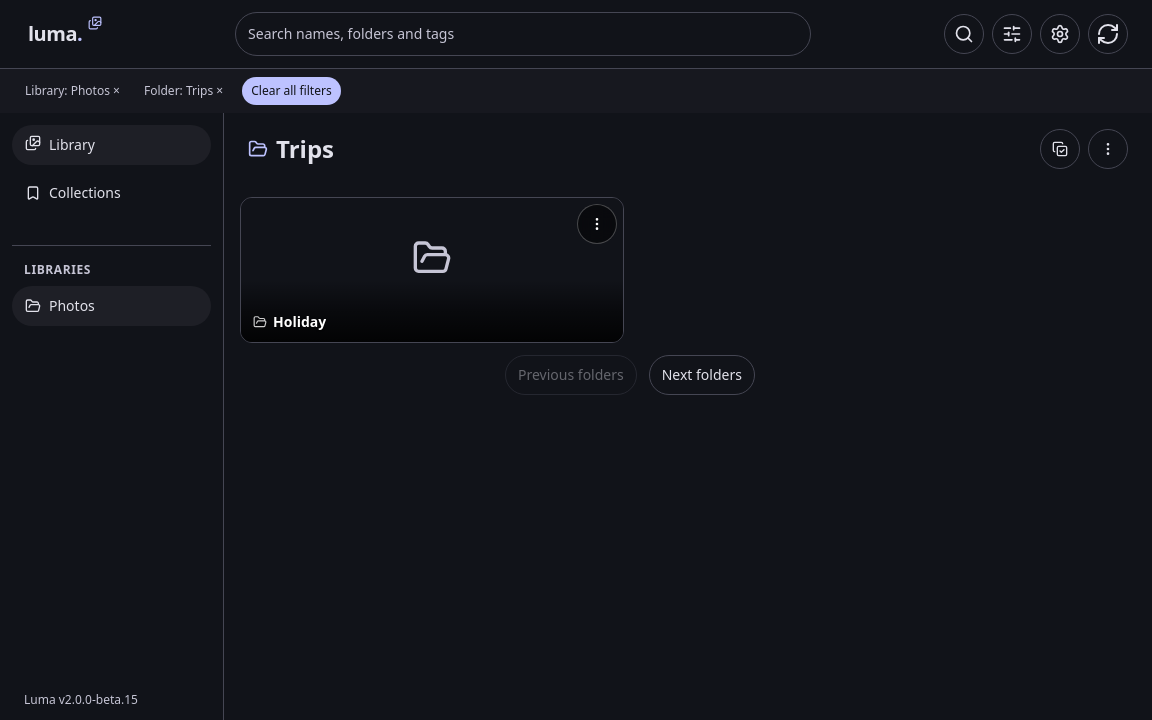
Test: browsing shell › selects folders across pages and uses the entire folder card to toggle without navigating
The image size is (1152, 720).
Expected: the button with aria-label "Open Holiday" is shown, [241, 198, 623, 342]
Click the button named "Select media" at x=1060, y=149, box [1040, 129, 1080, 169]
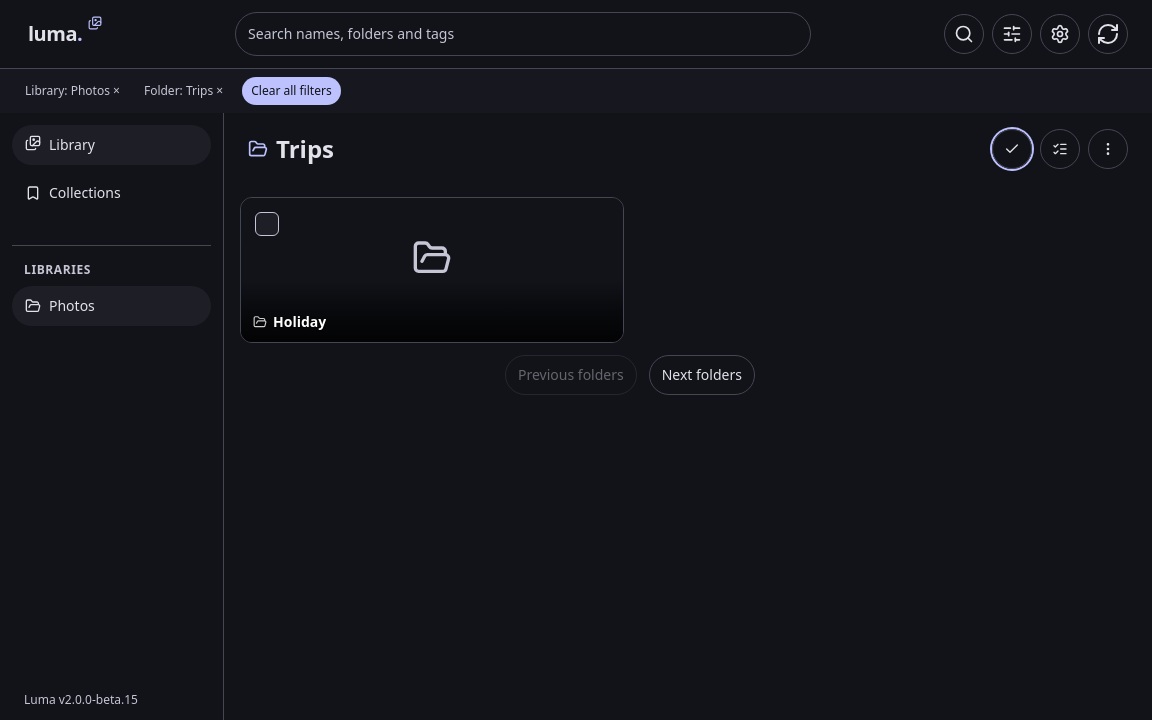
Click the button with aria-label "Select folder Holiday" at x=432, y=270, box [241, 198, 623, 342]
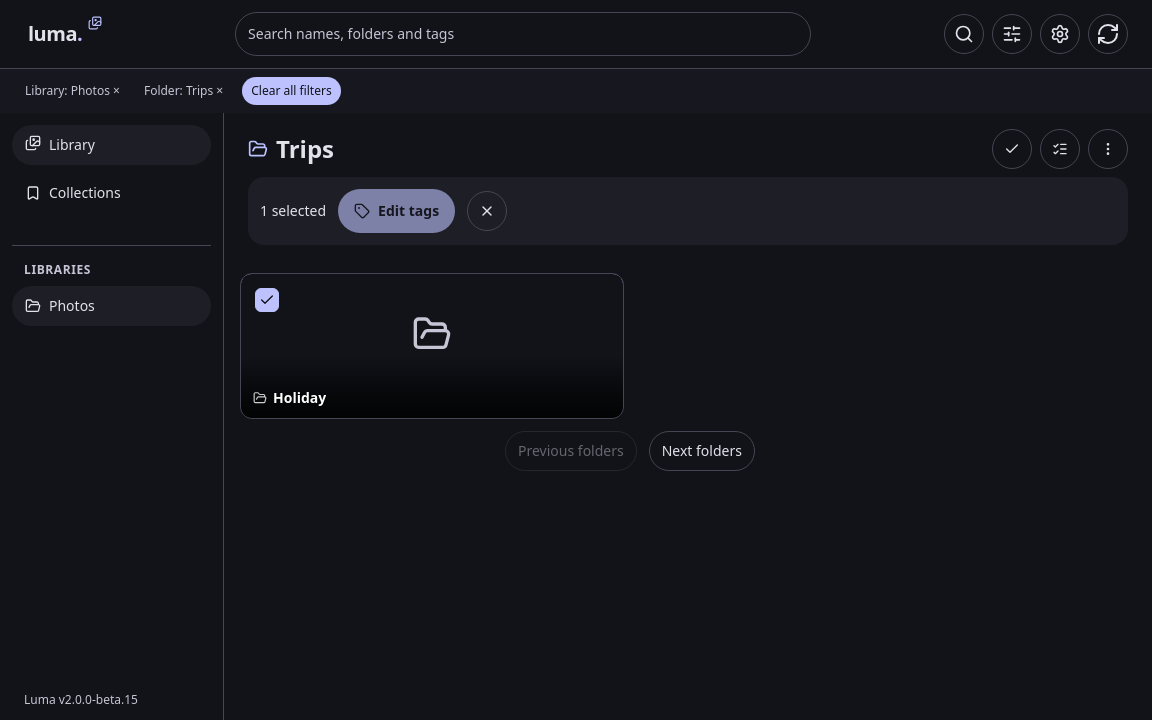
Result: the checkbox named "Select folder Holiday" is checked at [245, 278, 289, 322]
Click the button with aria-label "Select folder Holiday" at x=432, y=346, box [241, 274, 623, 418]
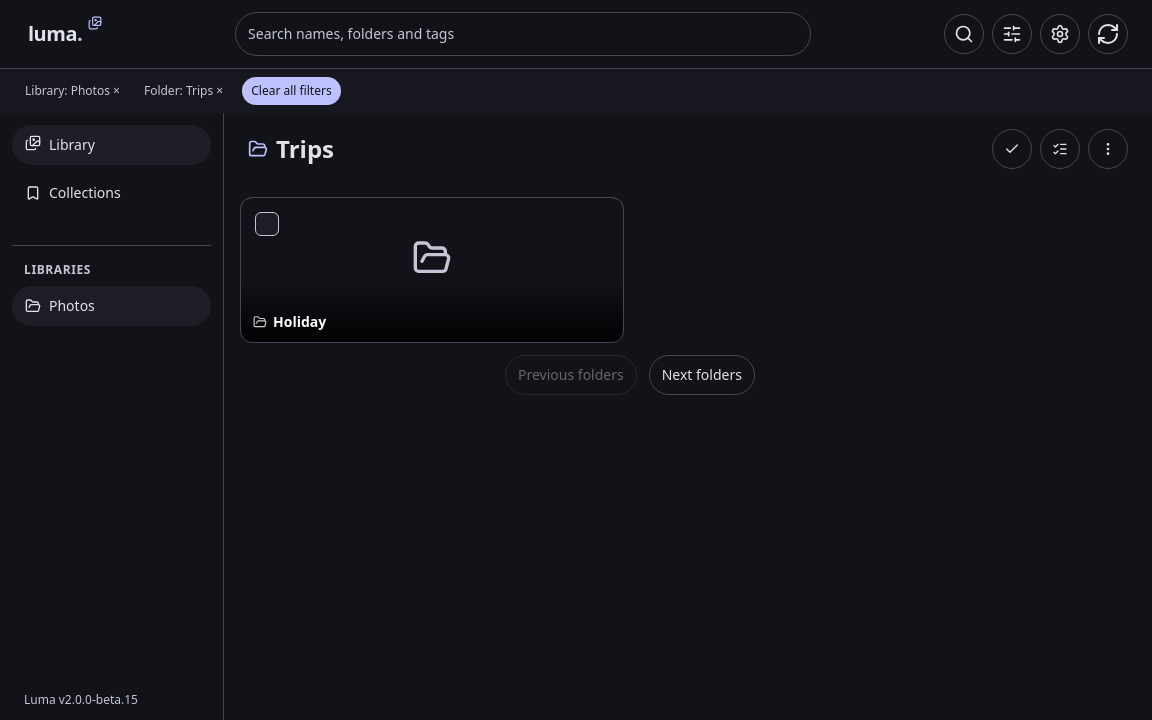
Result: the button with aria-label "Select folder Holiday" is not pressed at [241, 198, 623, 342]
Click the button named "Select all" at x=1060, y=149, box [1040, 129, 1080, 169]
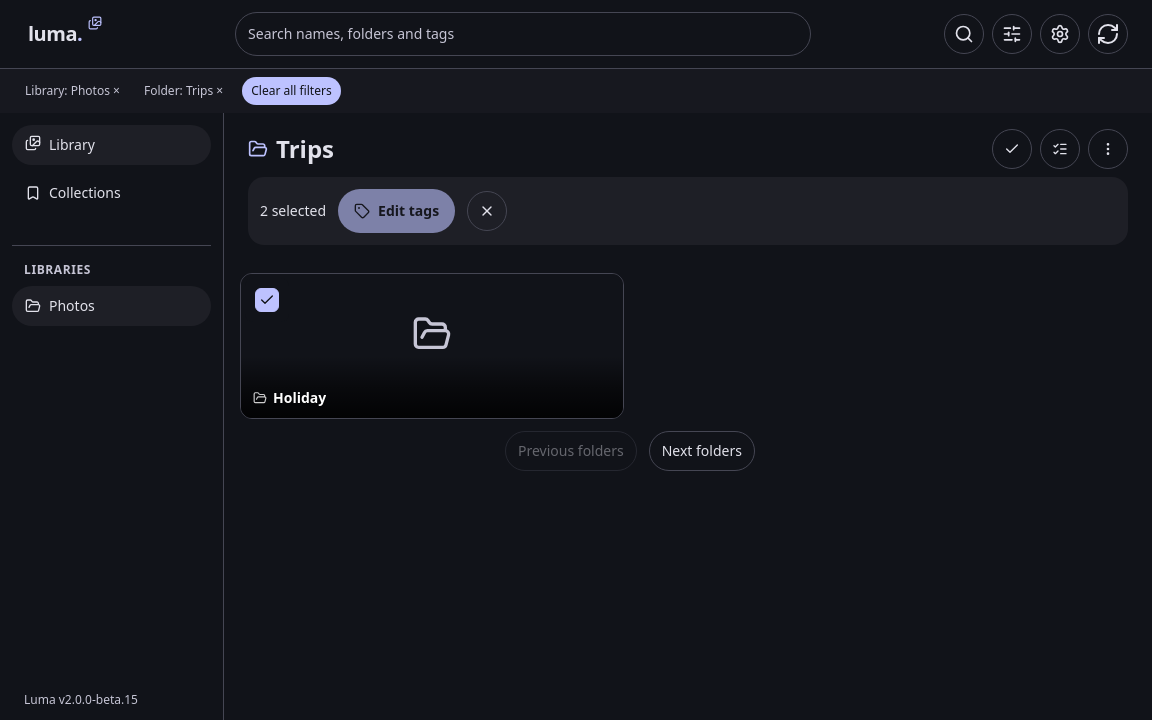
Result: the text "2 selected" is shown at [260, 201, 326, 221]
